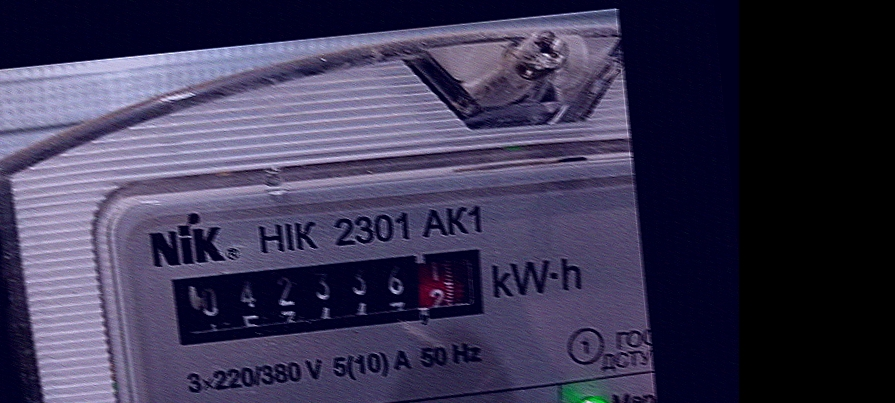0: (197, 284, 219, 319)
1: (425, 256, 440, 283)
2: (272, 272, 297, 308), (425, 287, 444, 309)
3: (309, 268, 330, 302), (348, 264, 368, 298)
4: (236, 276, 257, 310)
6: (383, 263, 406, 298)
screen: (157, 234, 499, 357)
